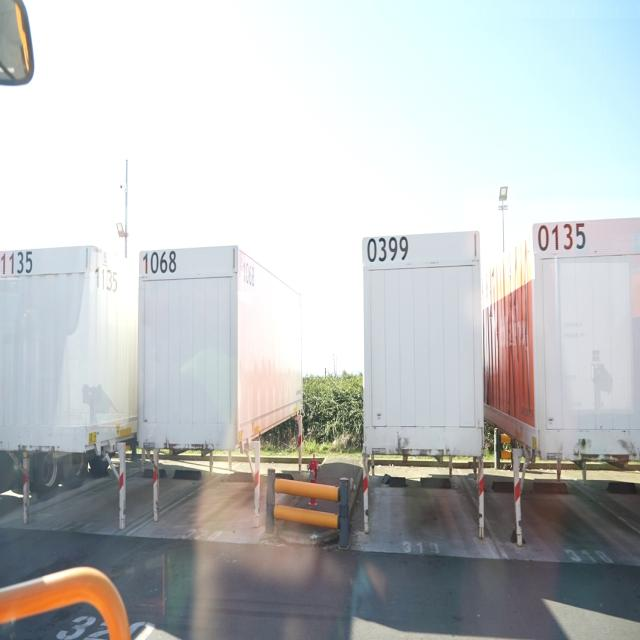Code: (363, 227, 413, 269), (539, 216, 588, 256), (140, 246, 178, 283), (92, 259, 122, 297), (0, 249, 35, 277), (239, 256, 258, 288)
